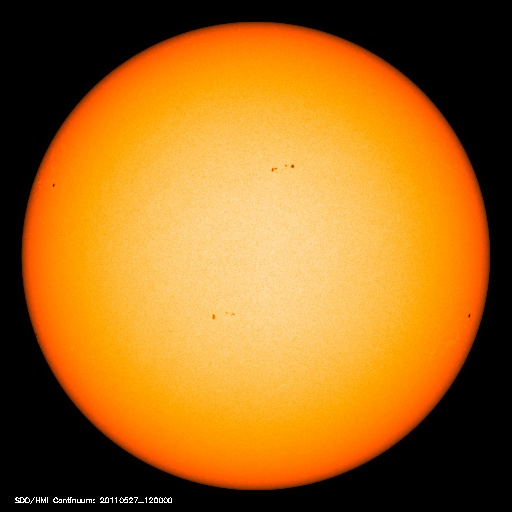sunspot: (202, 297, 243, 332), (262, 152, 303, 184), (39, 170, 68, 199), (457, 305, 482, 326)
